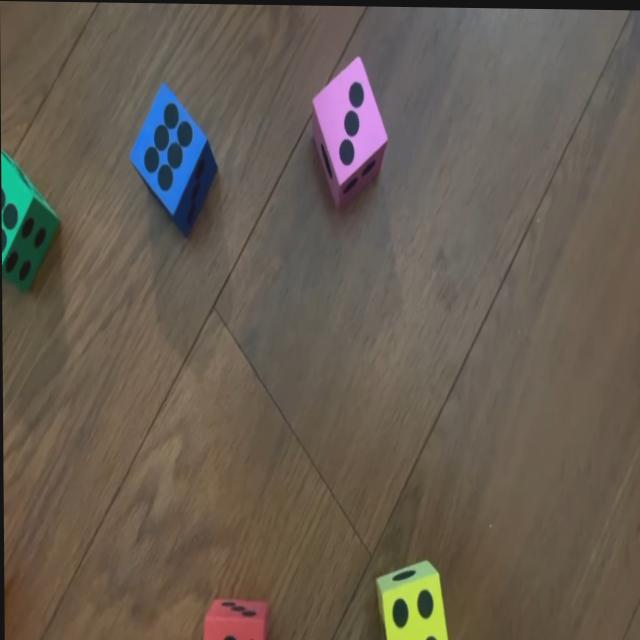blue_block: (128, 82, 217, 238)
red_block: (202, 590, 271, 640)
